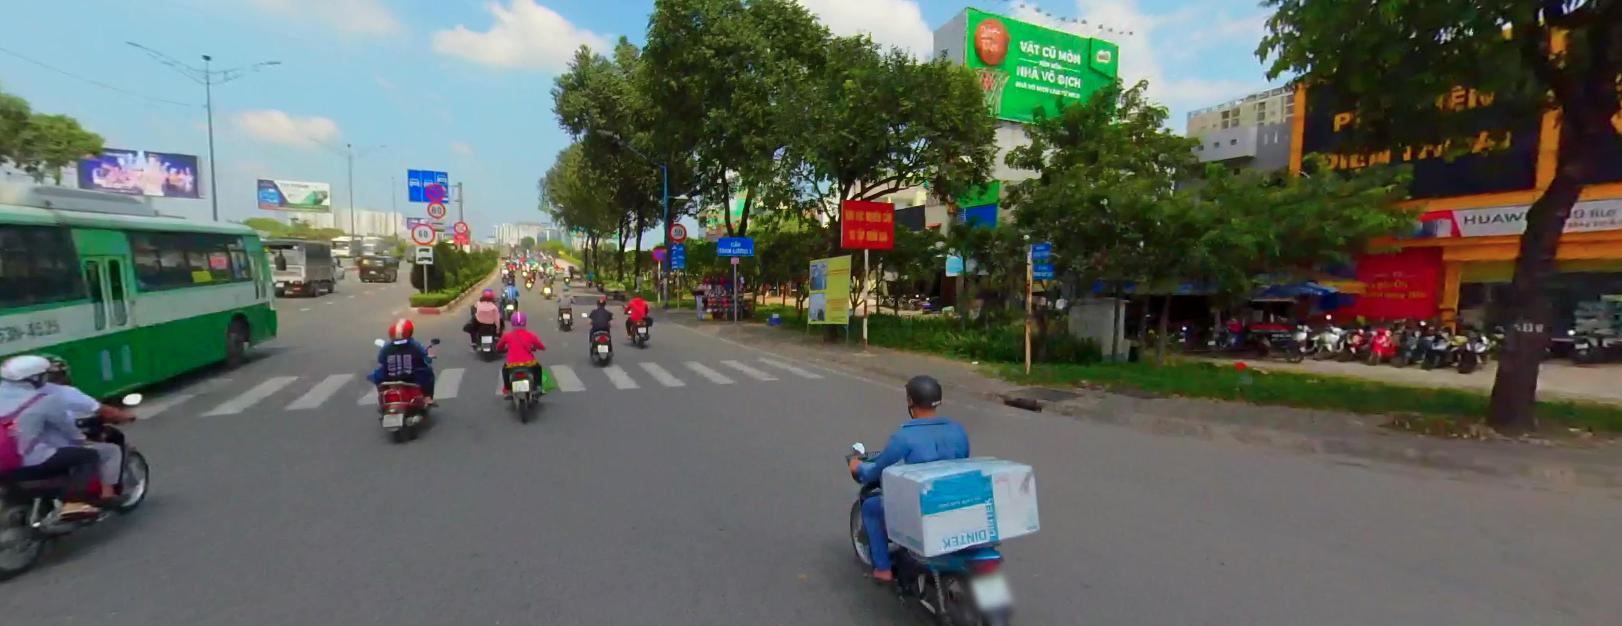Cam con lai: (454, 220, 468, 232)
Cam dung va do: (426, 182, 444, 199), (652, 246, 666, 258)
Gioi han toc do: (410, 222, 436, 242), (669, 222, 686, 240), (427, 201, 445, 216)
